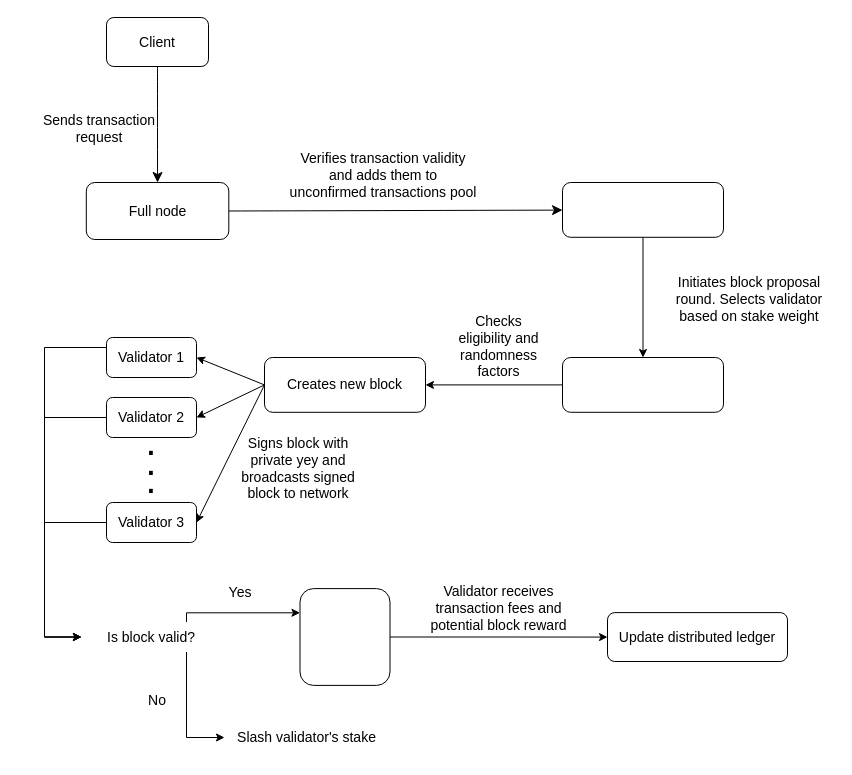
This 852x775 diagram has some shape labels left out. The centre of each missing label's shape, as x and y in pixels:
Block added to blockchain: (x=344, y=636)
Staking node: (x=643, y=209)
Validator: (x=643, y=384)
